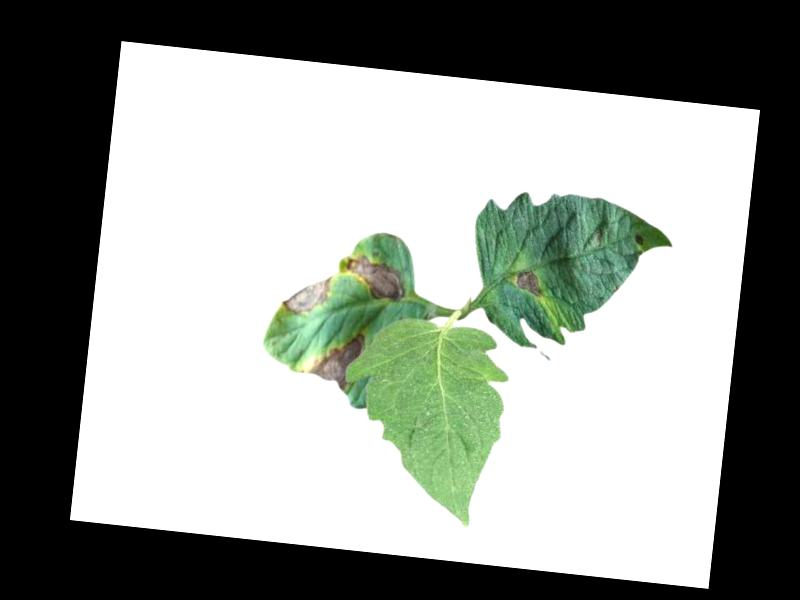Early_blight: (310, 328, 366, 393), (339, 254, 407, 304), (277, 268, 332, 316), (512, 267, 544, 300), (632, 232, 644, 247)
healthy: (331, 300, 516, 534)
